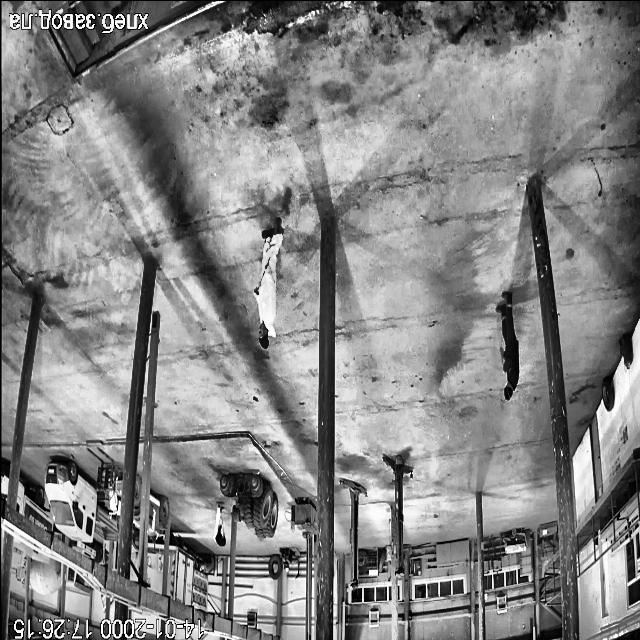class4: (254, 219, 282, 348), (496, 292, 518, 399), (213, 502, 224, 546)
class6: (220, 475, 278, 538)
class7: (44, 461, 116, 541), (165, 533, 207, 612), (16, 480, 52, 532), (97, 466, 122, 522), (30, 558, 63, 595), (144, 493, 169, 541), (146, 540, 164, 594), (14, 537, 48, 560), (69, 540, 104, 562), (66, 567, 92, 596), (131, 476, 141, 551), (0, 464, 8, 503), (17, 557, 24, 579), (131, 571, 136, 580), (132, 554, 136, 562), (166, 532, 168, 534)
tractor: (619, 334, 632, 368)
truck: (383, 455, 412, 576), (340, 479, 366, 588)
